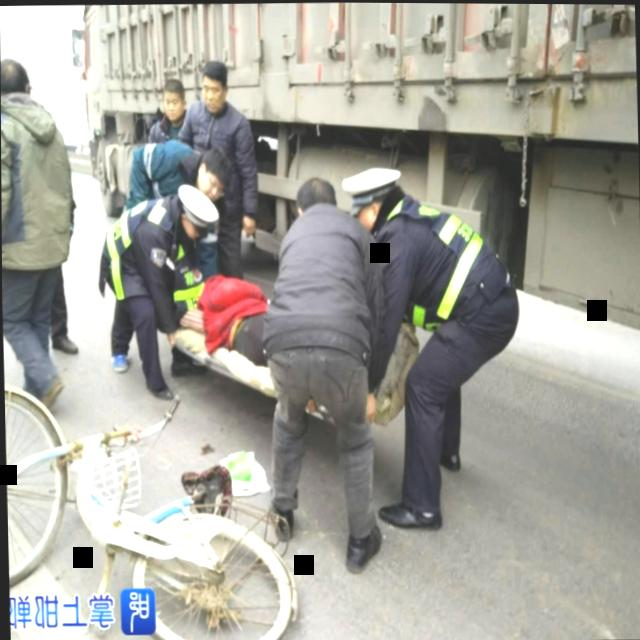Fall-Detected: (160, 265, 290, 396)
